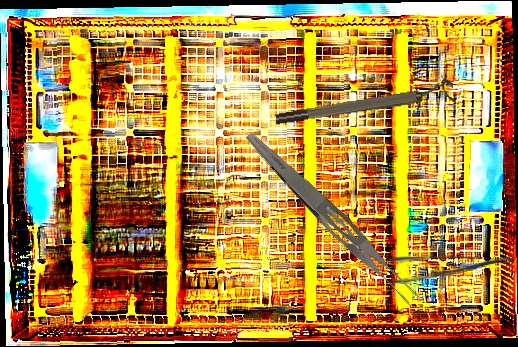Dressing Forceps: (236, 128, 425, 310), (389, 255, 514, 284)
Fixation Ring: (273, 78, 456, 128)
